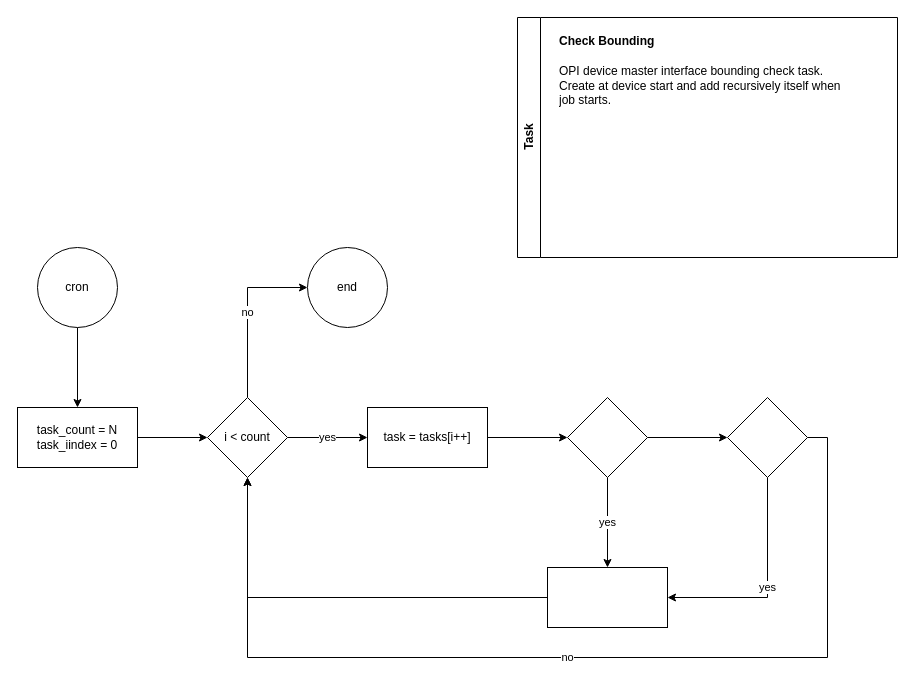
The diagram is 915 pixels wide and 683 high, and some of its shapes have lost their labels. The centre of each missing label's shape, as x and y in pixels:
"do task" belongs at [607,597].
"eq_secs" belongs at [767,437].
"is_periodic" belongs at [607,437].
